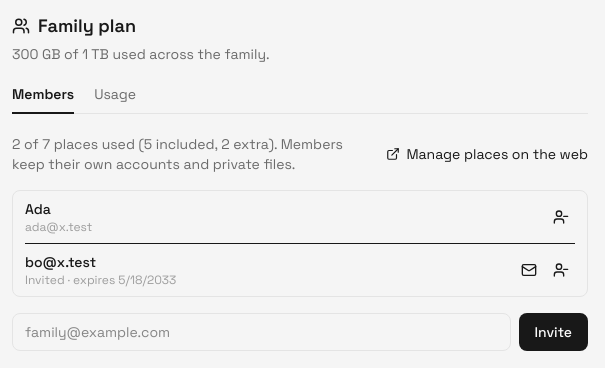
FamilySection › Usage tab lists every person with their total
Click the tab "Usage": {"x": 115, "y": 99} [94,84,136,114]
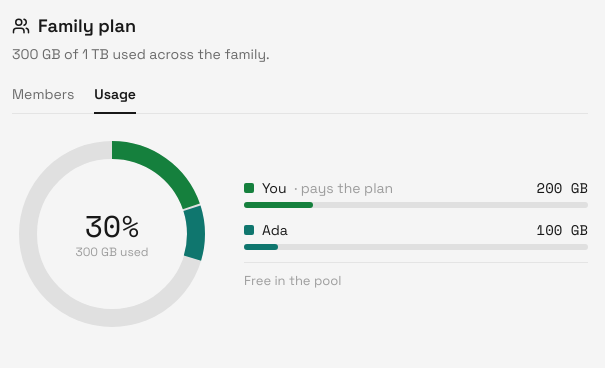
Now the text "200 GB" is shown, box [537,178,588,198]
Now the text "100 GB" is shown, box [537,220,588,240]
Now the text "Free in the pool" is shown, box [244,271,342,290]
